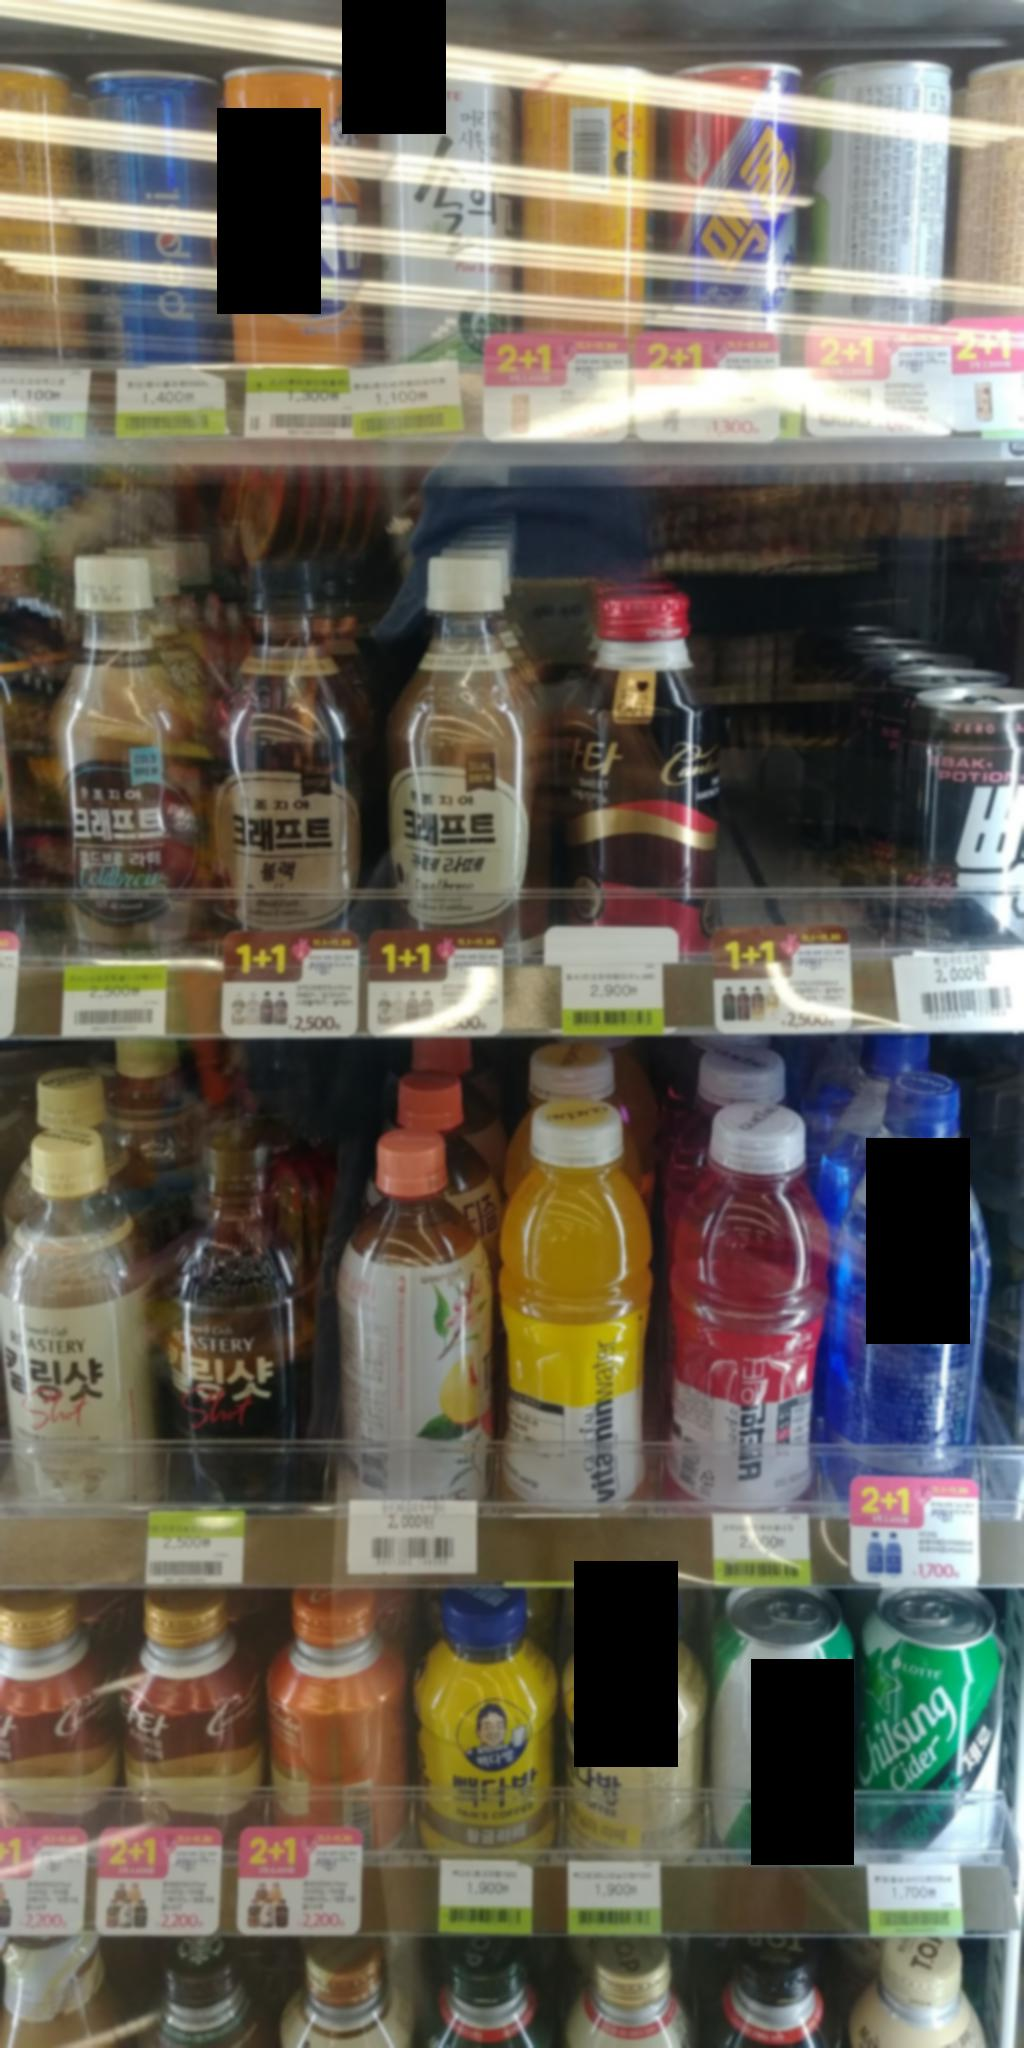chilsungcider: (711, 1595, 867, 1876)
georgiacraft_black: (223, 551, 367, 929)
